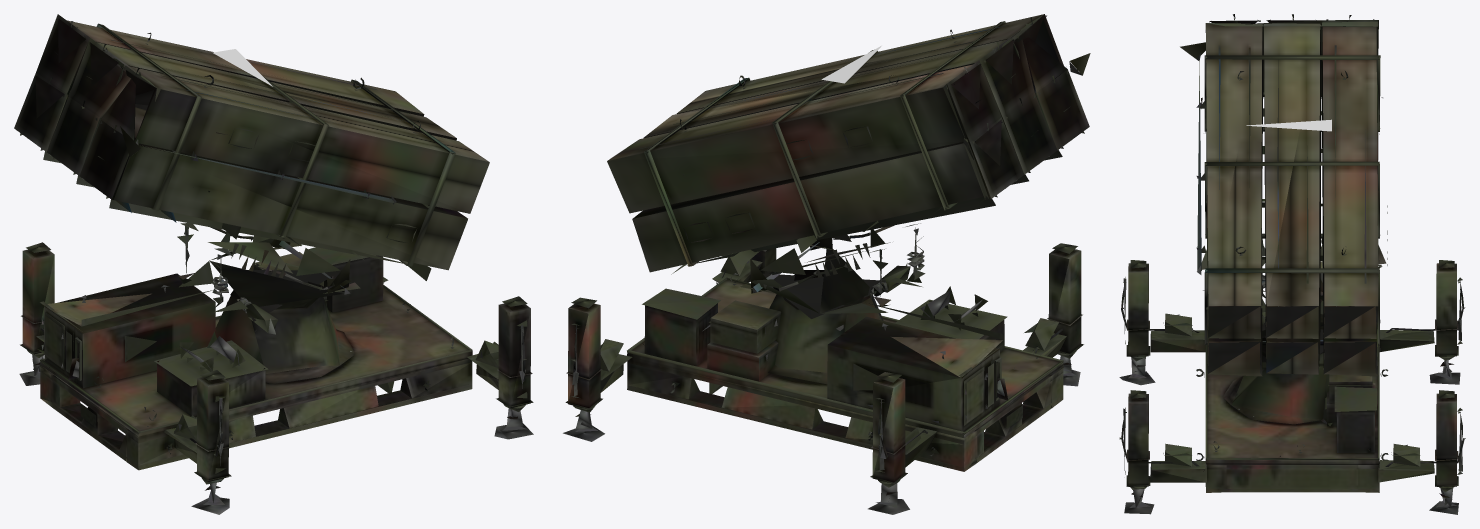
File: nasams_lo.glb
3 renders of one model, left to right at view 1: azimuth 30°, elevation 25°; view 2: azimuth 150°, elevation 25°; view 3: azimuth 270°, elevation 25°, orthographic. The views are drawn at different scales.
Visible parts, largest first — view 1: g_nasams_turret, g_nasams_hull; view 2: g_nasams_turret, g_nasams_hull; view 3: g_nasams_turret, g_nasams_hull.
Boxes of the visible parts, x1,y1,x2,y2 form: g_nasams_turret: (14, 14, 489, 334); g_nasams_hull: (19, 242, 533, 514); g_nasams_turret: (607, 14, 1090, 318); g_nasams_hull: (563, 243, 1083, 514); g_nasams_turret: (1180, 14, 1387, 376); g_nasams_hull: (1119, 260, 1465, 514).
Bounding box in the file's own units: 3.59 × 3.63 × 3.19.
Materials: 3 (2 with a texture image).
